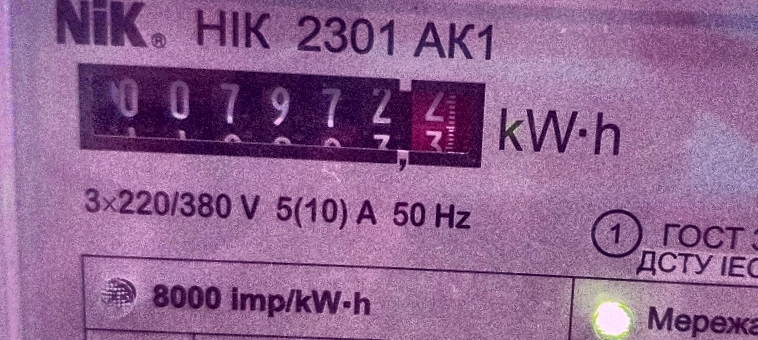0: (114, 75, 142, 118), (166, 77, 192, 120)
2: (369, 86, 394, 126), (421, 89, 445, 124)
3: (421, 127, 444, 153)
7: (316, 84, 344, 131), (215, 79, 242, 125)
9: (266, 83, 291, 127)
screen: (55, 46, 503, 186)
